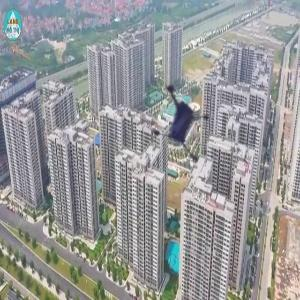drone: (129, 70, 220, 161)
